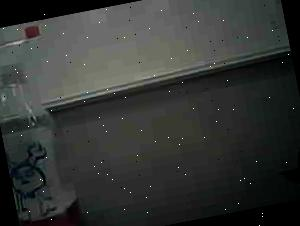hazard: (0, 15, 101, 226)
